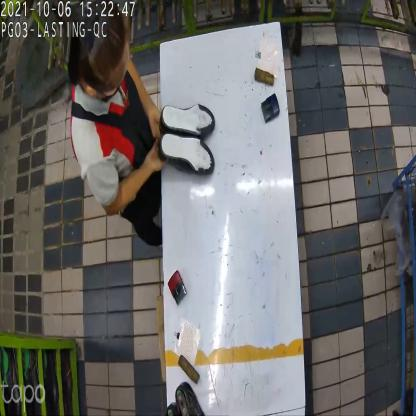shoes: (157, 97, 216, 179)
stamp: (260, 92, 279, 125), (170, 270, 187, 303)
